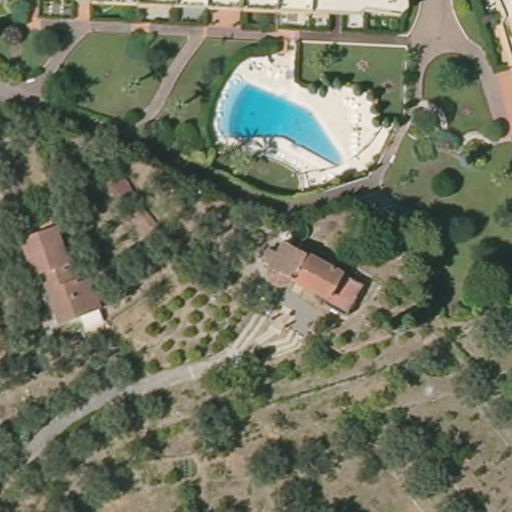pool: (211, 75, 352, 171)
